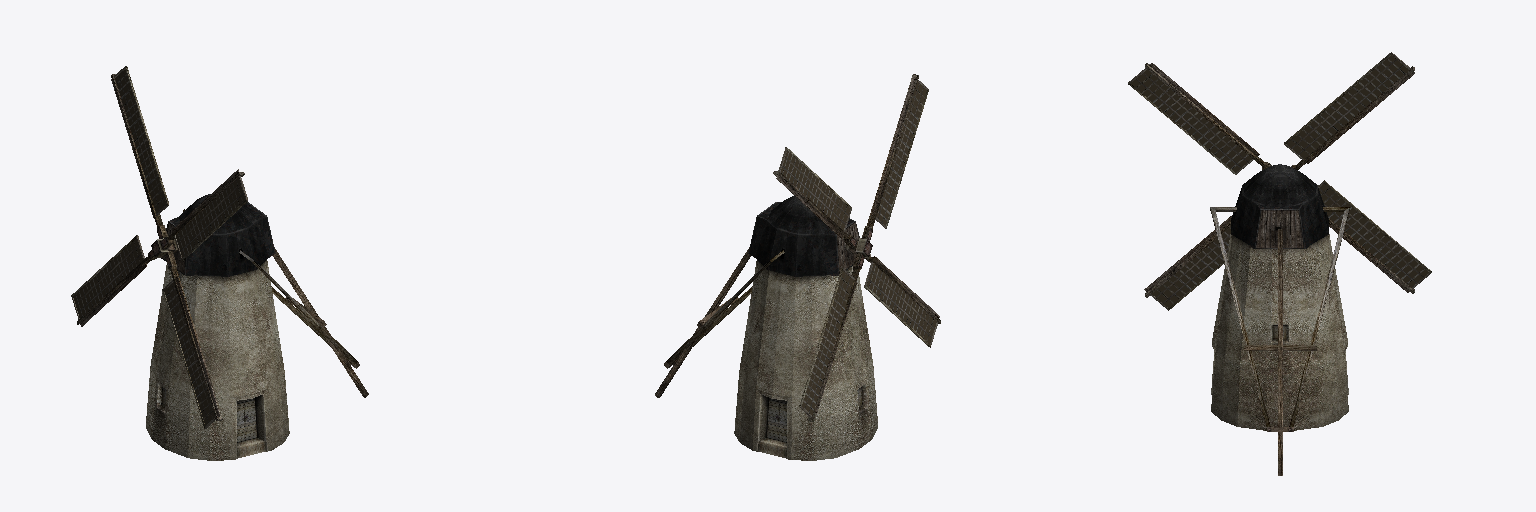
The picture shows the model from 3 angles: view 1: azimuth 30°, elevation 25°; view 2: azimuth 150°, elevation 25°; view 3: azimuth 270°, elevation 25°; orthographic projection.
Visible parts, largest first — view 1: Object_WindmillBackdrop_01_D.jpg; view 2: Object_WindmillBackdrop_01_D.jpg; view 3: Object_WindmillBackdrop_01_D.jpg.
Boxes of the visible parts, box(x1,y1,x2,y2) form: Object_WindmillBackdrop_01_D.jpg: box(71, 66, 368, 460); Object_WindmillBackdrop_01_D.jpg: box(655, 74, 940, 460); Object_WindmillBackdrop_01_D.jpg: box(1128, 52, 1431, 475).
Size of the model in its own units: 1.75 by 2.5 by 2.06.
2 materials, 1 textured.